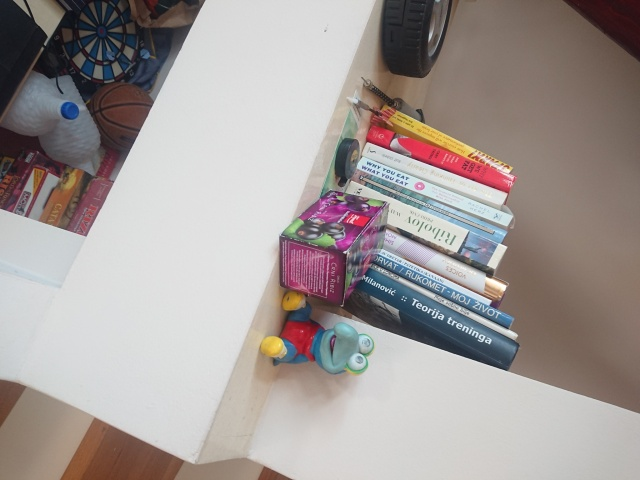Franck Black Currant Tea 60g: (276, 188, 391, 309)
